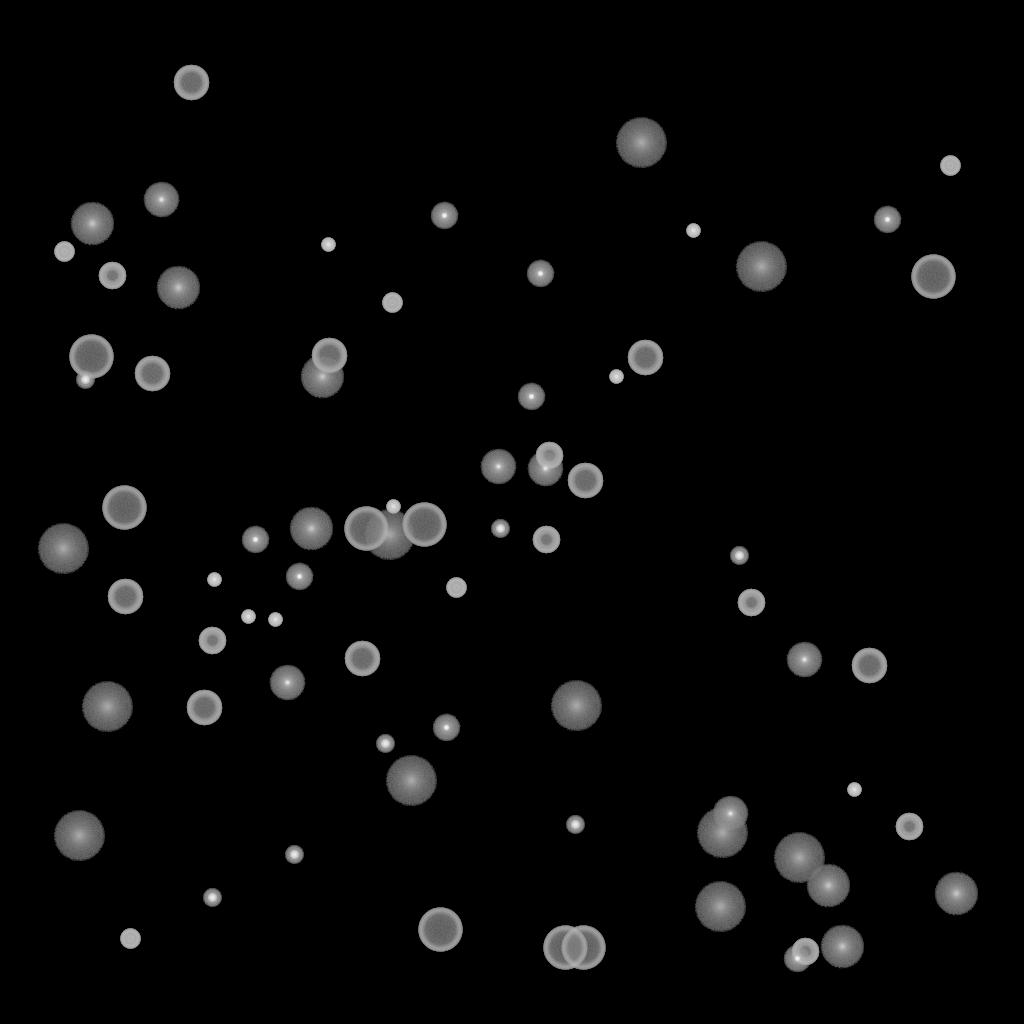depth:-10: (783, 945, 811, 973), (873, 206, 901, 234), (526, 260, 554, 288), (432, 714, 460, 742), (517, 383, 545, 411), (285, 563, 313, 591), (241, 526, 269, 554), (430, 202, 458, 230)
depth:-20: (76, 371, 94, 389), (376, 735, 394, 753), (285, 846, 303, 864), (203, 889, 221, 907), (491, 520, 509, 538), (730, 547, 748, 565), (566, 816, 584, 834)
depth:-30: (386, 500, 400, 514), (241, 610, 255, 624), (847, 783, 861, 797), (321, 238, 335, 252), (268, 613, 282, 627), (609, 370, 623, 384), (686, 224, 700, 238), (207, 573, 221, 587)
depth:-40: (446, 578, 466, 598), (120, 929, 140, 949), (54, 242, 74, 262), (382, 293, 402, 313), (940, 156, 960, 176)
depth:-50: (791, 938, 819, 966), (98, 262, 126, 290), (532, 526, 560, 554), (895, 813, 923, 841), (535, 442, 563, 470), (737, 589, 765, 617), (198, 627, 226, 655)
depth:-60: (134, 356, 170, 392), (311, 338, 347, 374), (344, 641, 380, 677), (186, 690, 222, 726), (107, 579, 143, 615), (627, 340, 663, 376), (173, 65, 209, 101), (851, 648, 887, 684), (567, 463, 603, 499)
depth:-70: (344, 507, 388, 551), (102, 486, 146, 530), (911, 255, 955, 299), (69, 335, 113, 379), (561, 926, 605, 970), (543, 926, 587, 970), (402, 503, 446, 547), (418, 908, 462, 952)
depth:0: (143, 182, 179, 218), (712, 796, 748, 832), (786, 642, 822, 678), (527, 451, 563, 487), (480, 449, 516, 485), (269, 665, 305, 701)
depth:10: (300, 355, 344, 399), (934, 872, 978, 916), (70, 202, 114, 246), (806, 864, 850, 908), (156, 266, 200, 310), (289, 507, 333, 551), (820, 925, 864, 969)
depth:20: (53, 811, 105, 861), (696, 808, 748, 858), (773, 833, 825, 883), (37, 524, 89, 574), (550, 681, 602, 731), (363, 510, 415, 560), (735, 242, 787, 292), (81, 682, 133, 732), (615, 118, 667, 168), (385, 756, 437, 806), (694, 882, 746, 932)
